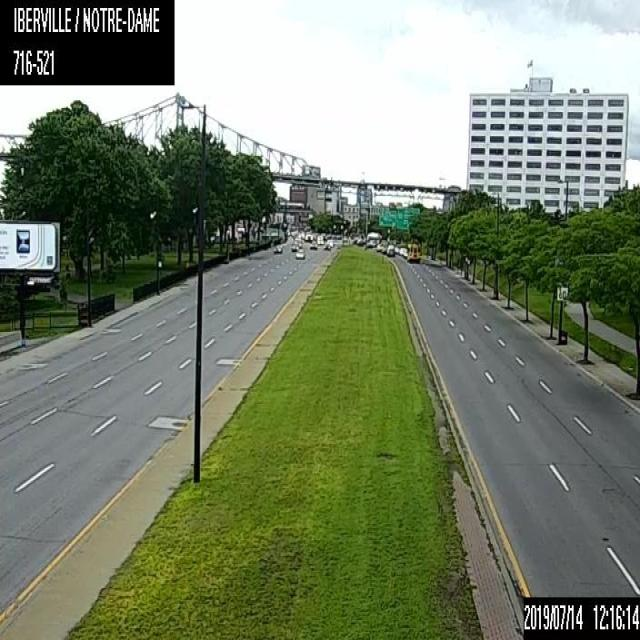bus: (406, 241, 421, 263)
vehicle: (272, 242, 282, 255), (386, 243, 394, 256), (296, 246, 304, 258), (308, 239, 316, 249), (316, 234, 323, 243), (326, 238, 333, 246), (402, 247, 407, 257), (323, 242, 330, 249), (291, 242, 297, 250), (398, 246, 404, 254), (394, 246, 398, 253)
